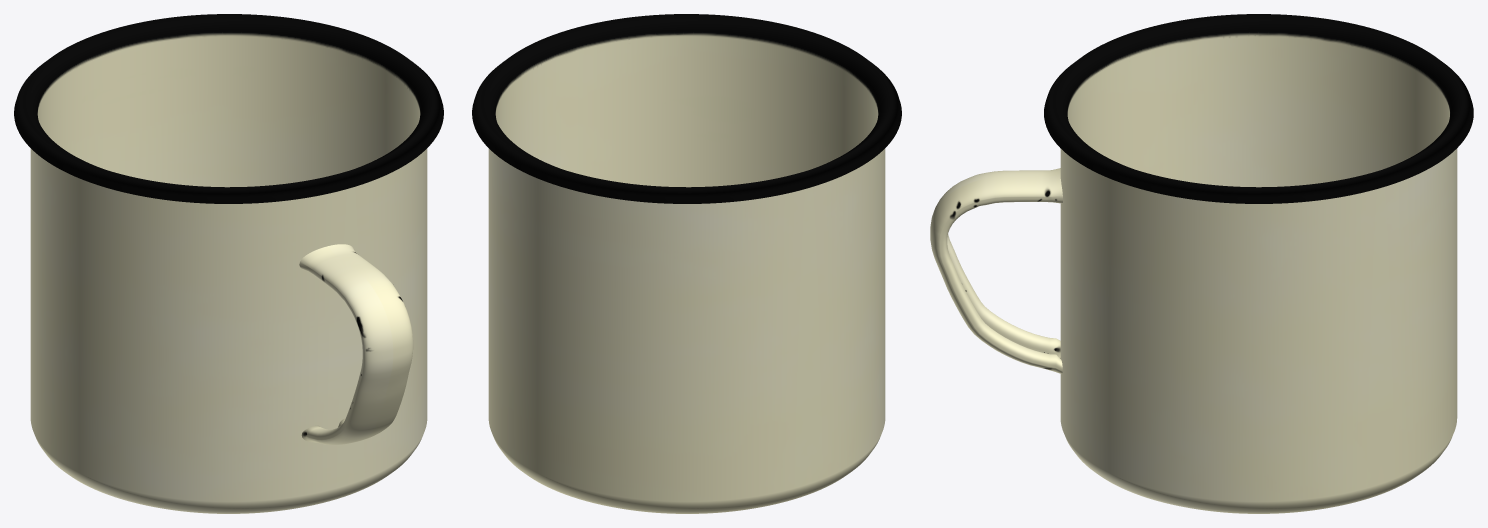
Rendered from Krujka-Me.fbx.
The picture shows the model from 3 angles, left to right: view 1: azimuth 30°, elevation 25°; view 2: azimuth 150°, elevation 25°; view 3: azimuth 270°, elevation 25°; orthographic projection.
Parts seen in each view (by area): view 1: Krujka; view 2: Krujka; view 3: Krujka.
Part boxes in pixels (x1,y1,x2,y2): Krujka: (14,14,443,513); Krujka: (472,14,901,513); Krujka: (930,14,1473,513).
Size of the model in its own units: 9.21 by 8 by 11.65.
